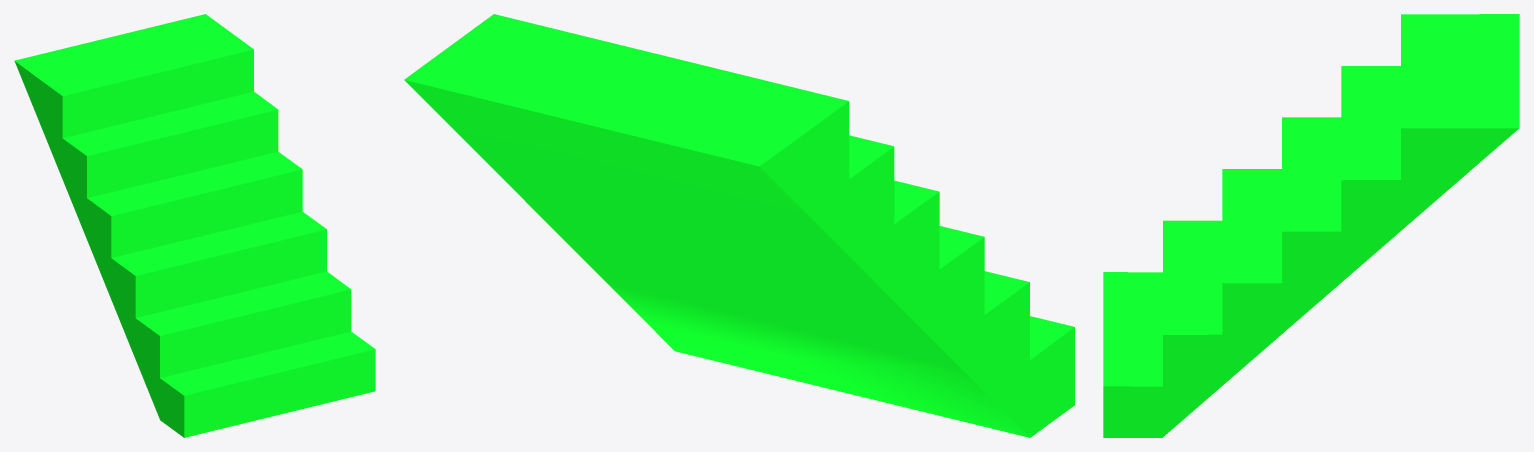
File: BaseStairs.004.glb
The picture shows the model from 3 angles, left to right: view 1: azimuth 30°, elevation 25°; view 2: azimuth 150°, elevation 25°; view 3: azimuth 270°, elevation 25°; orthographic projection. The views are drawn at different scales.
Parts seen in each view (by area): view 1: BaseStairs.004; view 2: BaseStairs.004; view 3: BaseStairs.004.
Boxes of the visible parts, left/top/right/bottom form: BaseStairs.004: left=14, top=14, right=375, bottom=437; BaseStairs.004: left=404, top=14, right=1074, bottom=437; BaseStairs.004: left=1103, top=14, right=1519, bottom=437.
Size of what is drawn, in the model's own units: 1.36 by 1.71 by 2.09.
1 material, 1 textured.
